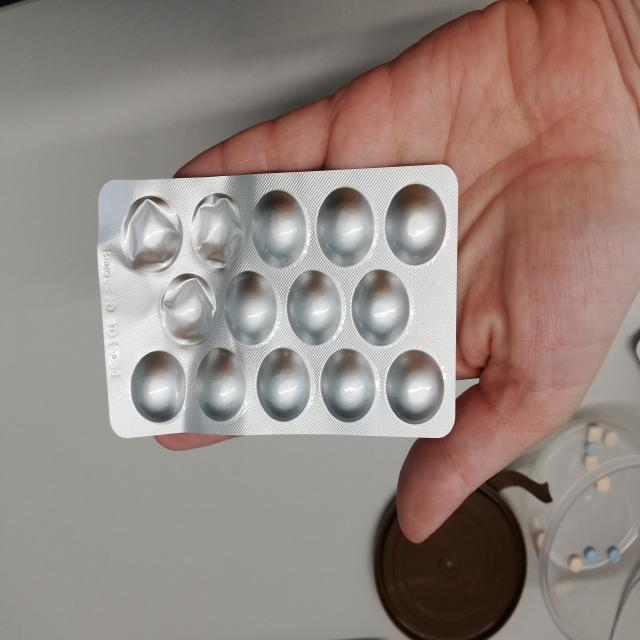Empty: (118, 191, 184, 275), (189, 192, 248, 270), (158, 274, 220, 348)
Pill: (384, 182, 447, 267), (316, 184, 376, 269), (250, 188, 309, 270), (352, 270, 411, 346), (386, 349, 444, 425), (319, 348, 377, 424), (222, 270, 280, 346), (254, 348, 313, 422), (129, 348, 188, 422), (287, 270, 343, 346), (192, 349, 249, 421)
